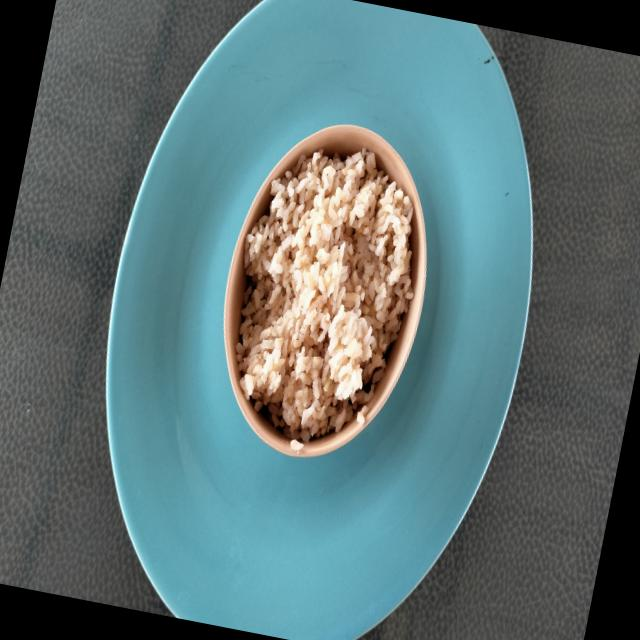brown-rice: (236, 149, 413, 444)
